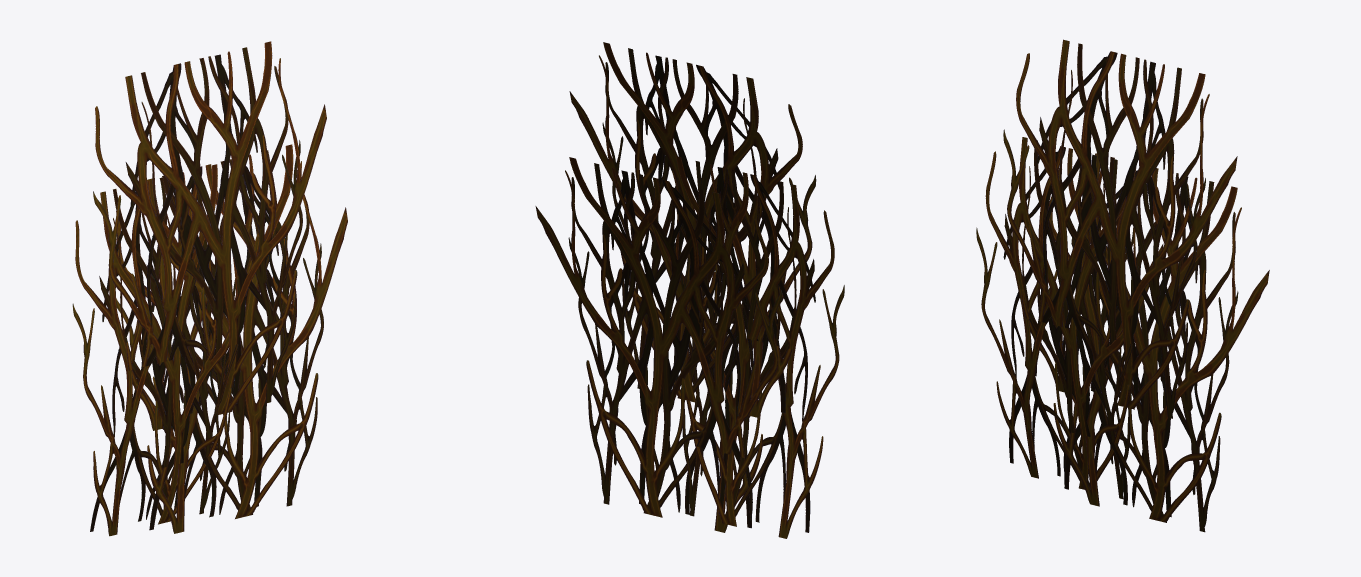
File: VEG_PLA_branchages.FBX
The picture shows the model from 3 angles, left to right: view 1: azimuth 30°, elevation 25°; view 2: azimuth 150°, elevation 25°; view 3: azimuth 330°, elevation 25°; orthographic projection. The views are drawn at different scales.
Parts seen in each view (by area): view 1: Plane025; view 2: Plane025; view 3: Plane025.
Boxes of the visible parts, x1,y1,x2,y2 form: Plane025: [72, 41, 347, 536]; Plane025: [535, 42, 844, 538]; Plane025: [976, 39, 1269, 532].
Bounding box in the file's own units: 230 × 250 × 27.44.
Materials: 1 (1 with a texture image).
